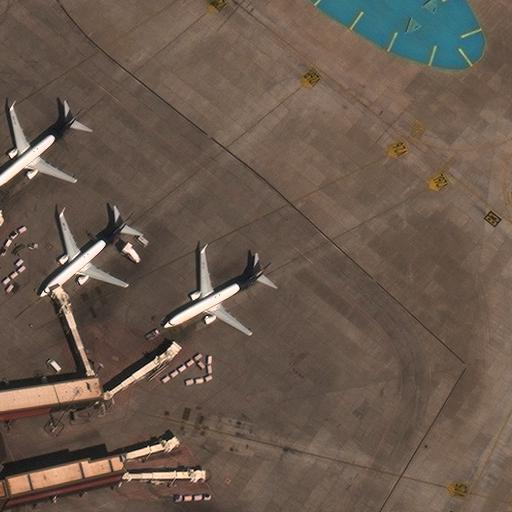Medium Civil Transport: (164, 249, 270, 335), (40, 214, 131, 295), (0, 108, 82, 188)
